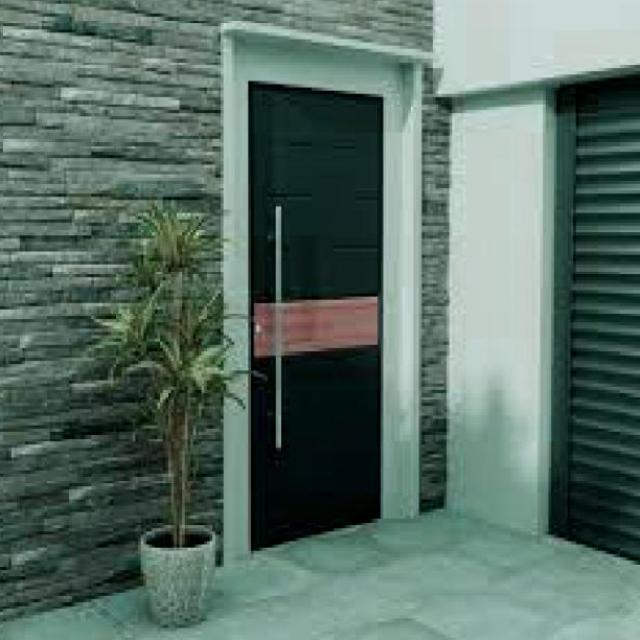door: (248, 82, 382, 549)
